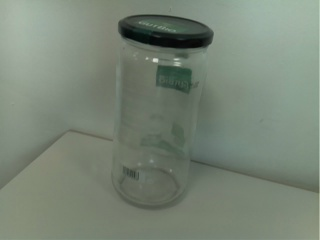pote cristal: (112, 13, 216, 211)
